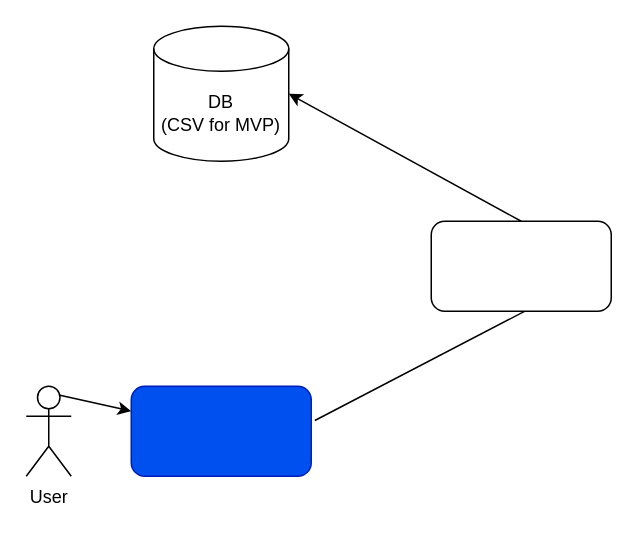
Some shapes in this 639 by 534 pixel diagram are drawn without their labels. Here are the shapes that lost their labels. From the top down, the centre of each, then its label:
At point 520,265: "BackEnd".
At point 220,430: "React Site".
